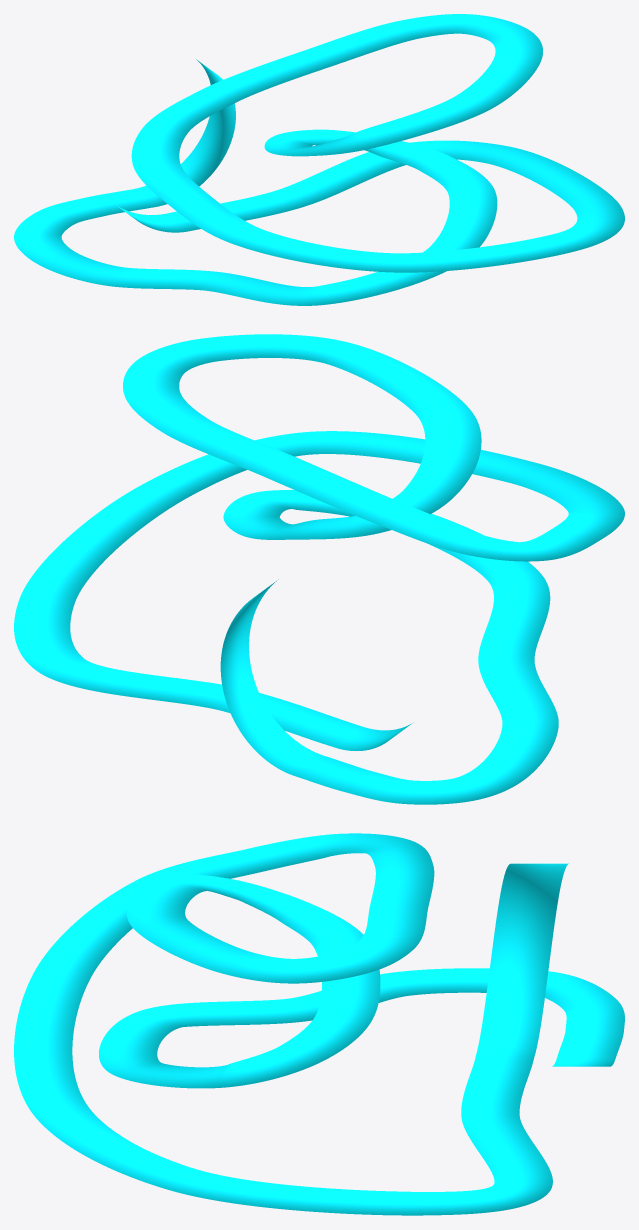
The model's file is racetrack-road-mobile.glb.
3 renders of one model, top to bottom at view 1: azimuth 30°, elevation 25°; view 2: azimuth 150°, elevation 25°; view 3: azimuth 270°, elevation 25°, orthographic. The views are drawn at different scales.
Parts seen in each view (by area): view 1: TRACK_ROAD; view 2: TRACK_ROAD; view 3: TRACK_ROAD.
Part boxes in pixels (x1=…): TRACK_ROAD: x1=14, y1=14, x2=624, y2=305; TRACK_ROAD: x1=14, y1=334, x2=624, y2=804; TRACK_ROAD: x1=14, y1=833, x2=624, y2=1215.
Size of the model in its own units: 27.59 by 10.73 by 25.41.
